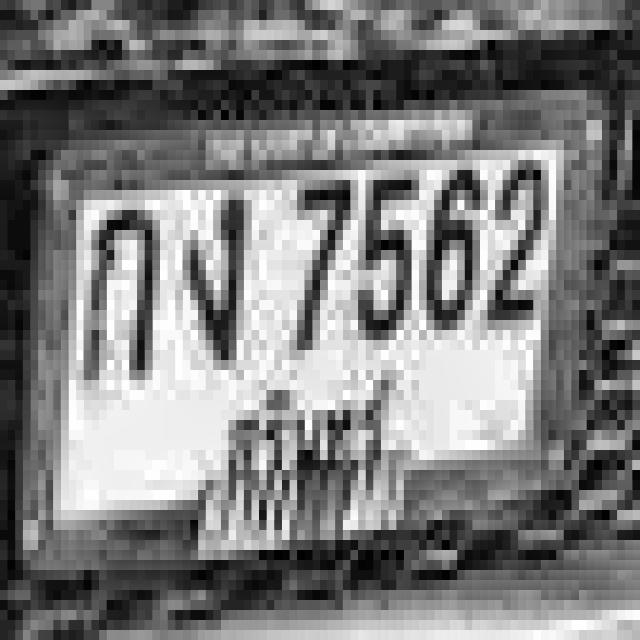license-plate: (23, 93, 611, 565)
